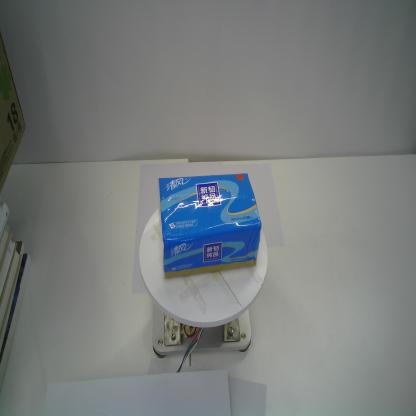Tissue: (156, 170, 262, 282)
